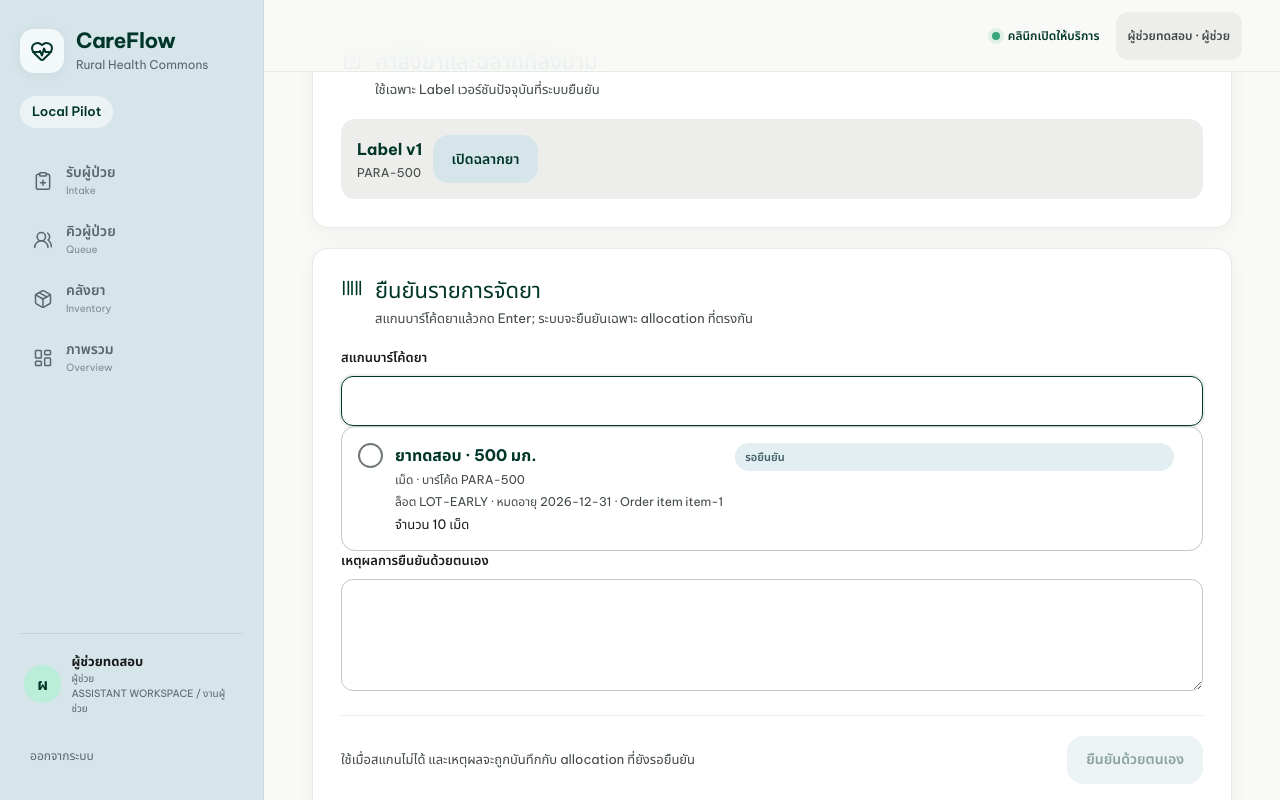
Test: Preparation and label workflow › submits a barcode confirmation on Enter for its matching allocation and exposes exact allocation data
The image size is (1280, 800).
(page scrolled)
Expected: the text "ล็อต LOT-EARLY · หมดอายุ 2026-12-31 · Order item item-1" is shown, [395,493,723,511]
Expected: the text "ยาทดสอบ · 500 มก." is shown, [395,445,537,465]
In the field labelled "สแกนบาร์โค้ดยา": (772, 401) [341,376,1203,426], type "PARA-500"
Then press Enter
(page scrolled)
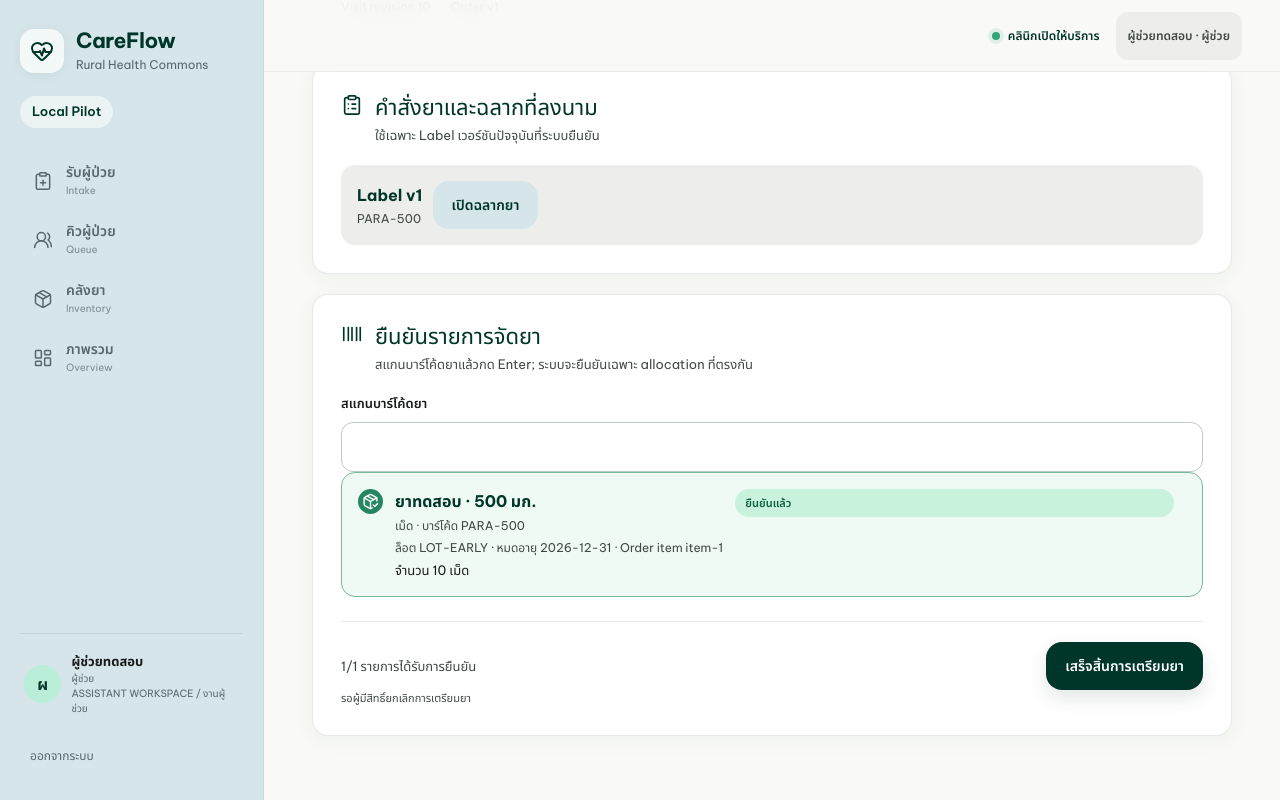
Expected: the text "ยืนยันแล้ว" is shown, [735,489,1174,517]
